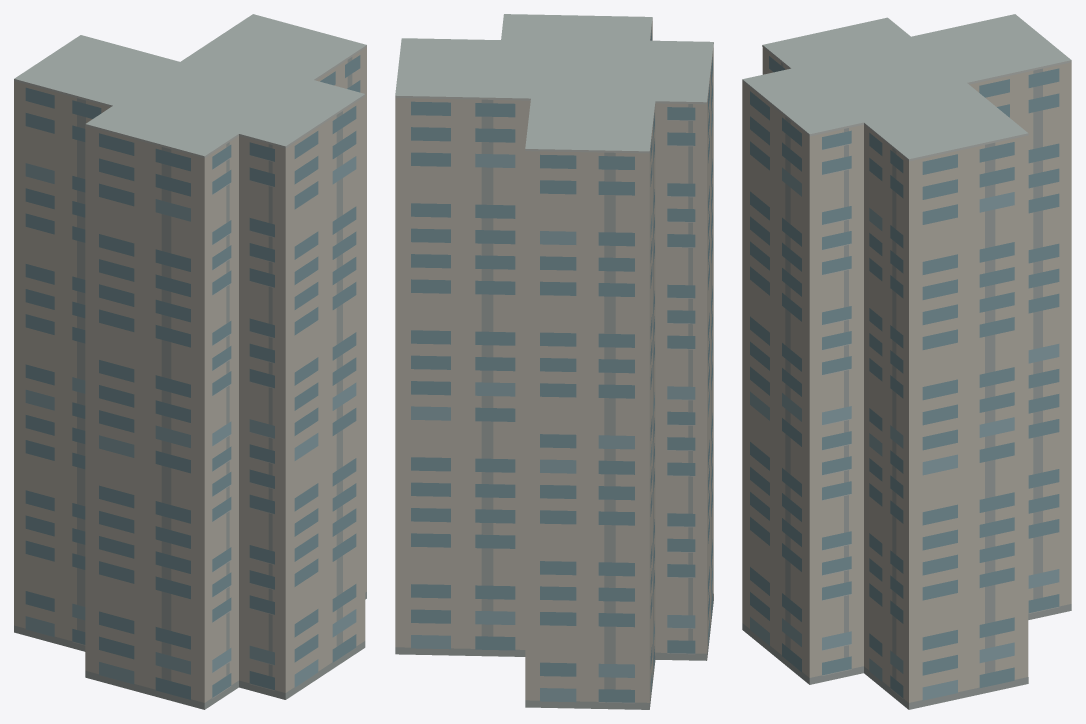
Rendered from residential-51058881-908d-4be8-ba00-267eefe85dbb.glb.
3 renders of one model, left to right at view 1: azimuth 30°, elevation 25°; view 2: azimuth 150°, elevation 25°; view 3: azimuth 270°, elevation 25°, orthographic.
Parts seen in each view (by area): view 1: residential-51058881-908d-4be8-ba00-267eefe85dbb.tmp; view 2: residential-51058881-908d-4be8-ba00-267eefe85dbb.tmp; view 3: residential-51058881-908d-4be8-ba00-267eefe85dbb.tmp.
Part boxes in pixels (x1=…): residential-51058881-908d-4be8-ba00-267eefe85dbb.tmp: x1=14, y1=14, x2=366, y2=709; residential-51058881-908d-4be8-ba00-267eefe85dbb.tmp: x1=395, y1=14, x2=713, y2=709; residential-51058881-908d-4be8-ba00-267eefe85dbb.tmp: x1=742, y1=14, x2=1071, y2=709.
Size of the model in its own units: 35.66 by 63 by 34.15.
